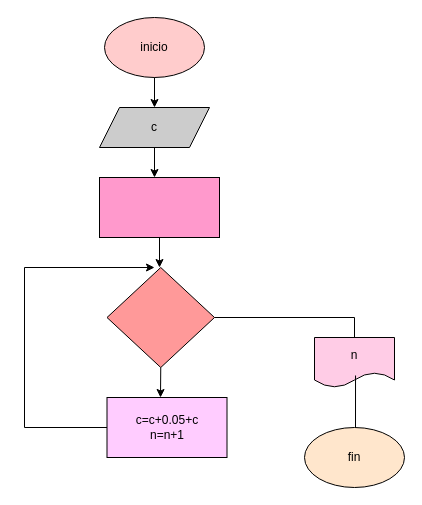
This 422x505 diagram has some shape labels left out. The shapes that lost their labels are listed below. From the top down, each one's centre as x and y in pixels, then its label:
the point at 159,207: D:2*c N: c
the point at 160,317: C<d
